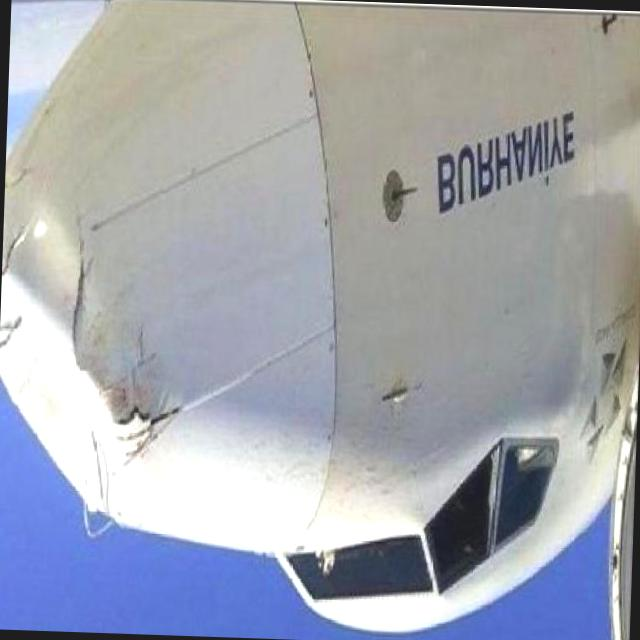dent: (0, 264, 172, 523)
